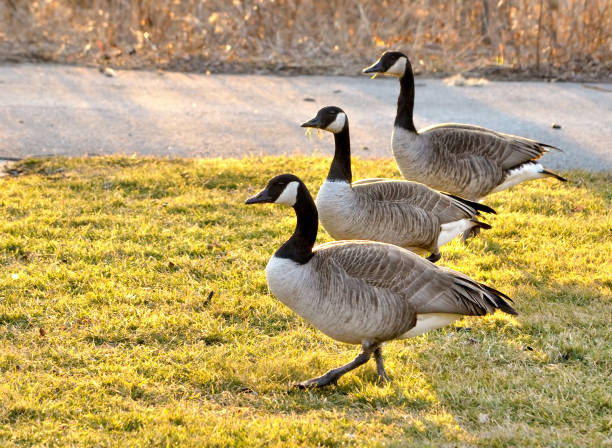goose: (241, 171, 524, 395), (360, 49, 573, 203), (300, 104, 498, 261)
